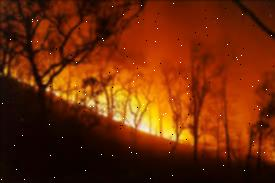fire: (84, 96, 196, 158)
